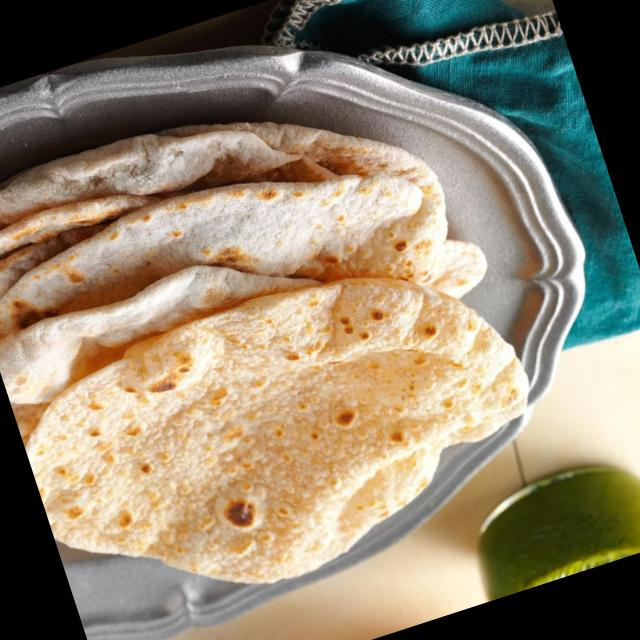roti: (0, 113, 530, 592)
